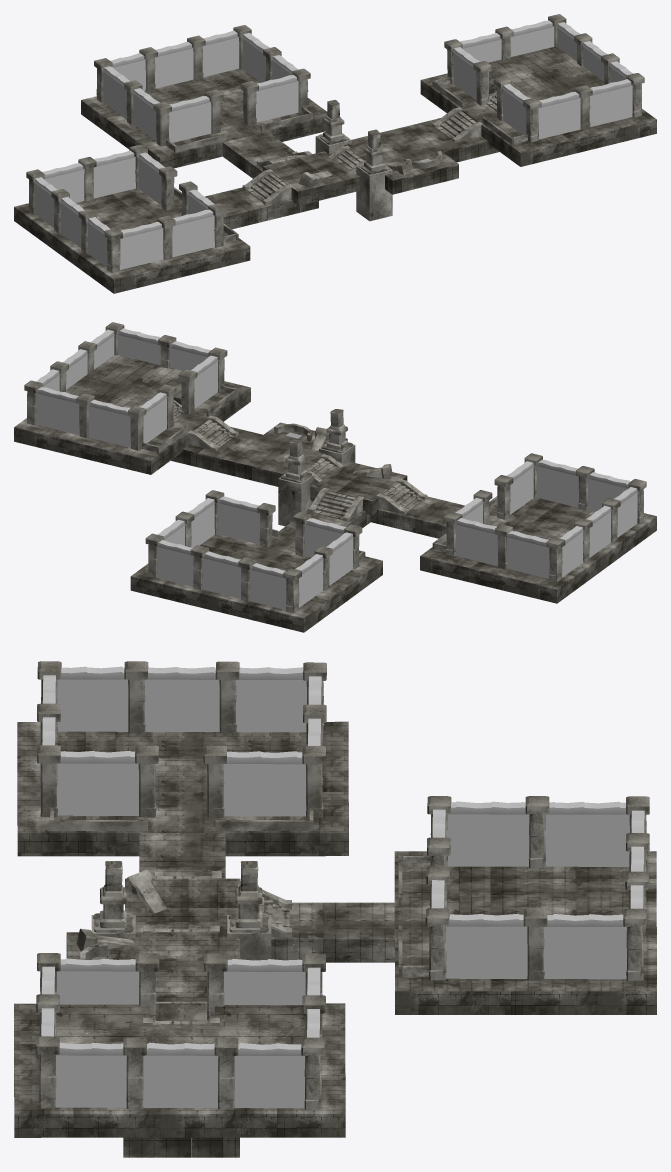
File: Level_Design4.fbx
The picture shows the model from 3 angles, top to bottom: view 1: azimuth 30°, elevation 25°; view 2: azimuth 150°, elevation 25°; view 3: azimuth 270°, elevation 25°; orthographic projection. The views are drawn at different scales.
Visible parts, largest first — view 1: Levels_Base7 (×2), Levels_Base1, Levels_Base3, Levels_Wall4 (×3), Levels_Wall6 (×3), Levels_Base2, Levels_Wall9 (×3), Levels_Wall5 (×3), Levels_Wall (×3), Levels_Wall2 (×3), Levels_Wall10 (×3), Levels_Base4 (+17 smaller); view 2: Levels_Base7 (×2), Levels_Base1, Levels_Base3, Levels_Wall (×3), Levels_Wall4 (×3), Levels_Base2, Levels_Wall6 (×3), Levels_Wall9 (×3), Levels_Wall10 (×3), Levels_Wall2 (×3), Levels_Wall7 (×3), Levels_Wall5 (×2) (+17 smaller); view 3: Levels_Base7 (×2), Levels_Base1, Levels_Wall10 (×2), Levels_Wall8 (×2), Levels_Wall7 (×2), Levels_Wall5 (×2), Levels_Wall2 (×2), Levels_Base2, Levels_Base3, Levels_Base5, Levels_Wall9, Levels_Wall4 (+19 smaller).
Boxes of the visible parts, bbox=[...] form: Levels_Base7 (×2): bbox=[14, 69, 327, 293]; Levels_Base1: bbox=[420, 73, 656, 166]; Levels_Base3: bbox=[344, 118, 499, 194]; Levels_Wall4 (×3): bbox=[102, 20, 554, 269]; Levels_Wall6 (×3): bbox=[93, 55, 580, 198]; Levels_Base2: bbox=[488, 47, 605, 100]; Levels_Wall9 (×3): bbox=[42, 32, 632, 202]; Levels_Wall5 (×3): bbox=[138, 75, 529, 205]; Levels_Wall (×3): bbox=[133, 33, 501, 257]; Levels_Wall2 (×3): bbox=[169, 47, 480, 214]; Levels_Wall10 (×3): bbox=[60, 41, 607, 248]; Levels_Base4: bbox=[263, 151, 359, 205]; Levels_Base7 (×2): bbox=[130, 497, 656, 632]; Levels_Base1: bbox=[14, 381, 250, 474]; Levels_Base3: bbox=[171, 422, 347, 486]; Levels_Wall (×3): bbox=[88, 399, 578, 585]; Levels_Wall4 (×3): bbox=[36, 387, 630, 607]; Levels_Base2: bbox=[65, 355, 182, 408]; Levels_Wall6 (×3): bbox=[170, 341, 497, 566]; Levels_Wall9 (×3): bbox=[118, 328, 549, 578]; Levels_Wall10 (×3): bbox=[63, 349, 611, 598]; Levels_Wall2 (×3): bbox=[140, 392, 534, 557]; Levels_Wall7 (×3): bbox=[91, 329, 583, 586]; Levels_Wall5 (×2): bbox=[191, 355, 259, 544]; Levels_Base7 (×2): bbox=[17, 721, 656, 1014]; Levels_Base1: bbox=[14, 1003, 345, 1137]; Levels_Wall10 (×2): bbox=[143, 667, 219, 1107]; Levels_Wall8 (×2): bbox=[57, 666, 304, 1108]; Levels_Wall7 (×2): bbox=[55, 667, 306, 1107]; Levels_Wall5 (×2): bbox=[57, 751, 306, 1004]; Levels_Wall2 (×2): bbox=[57, 750, 305, 1005]; Levels_Base2: bbox=[56, 1004, 305, 1044]; Levels_Base3: bbox=[66, 932, 239, 1157]; Levels_Base5: bbox=[271, 902, 394, 962]; Levels_Wall9: bbox=[543, 914, 626, 979]; Levels_Wall4: bbox=[545, 801, 629, 866].
Size of the model in its own units: 84.24 by 13.89 by 52.04.
